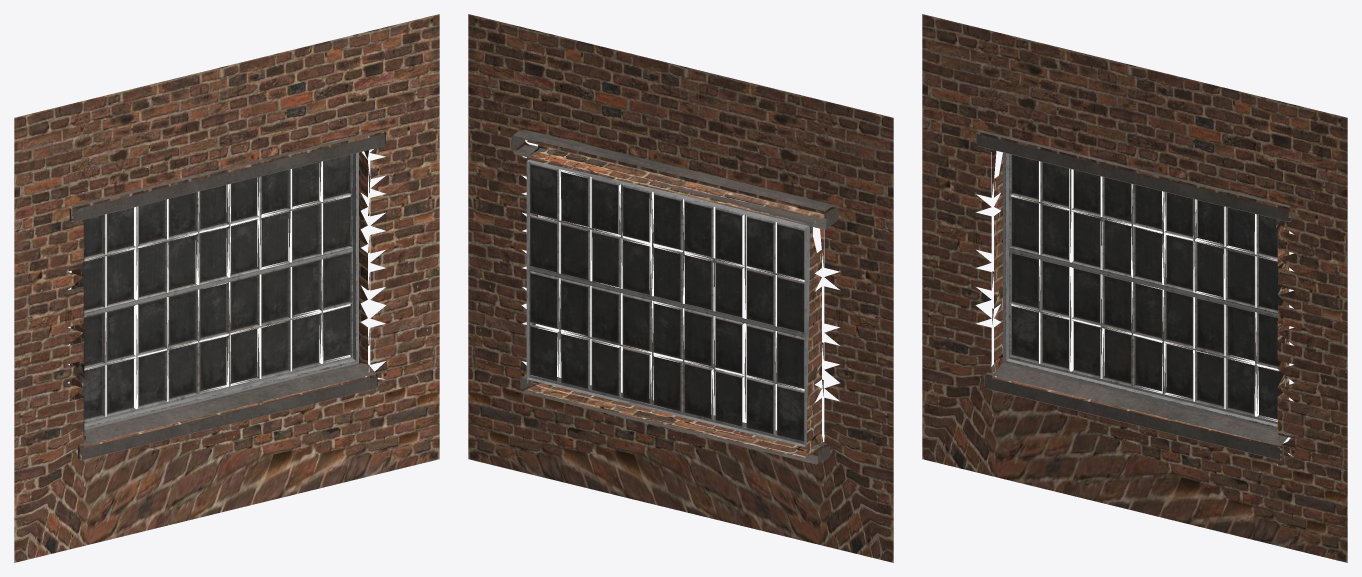
Rendered from FactoryWindow.glb.
3 views of the same model, side by side, from view 1: azimuth 30°, elevation 25°; view 2: azimuth 150°, elevation 25°; view 3: azimuth 330°, elevation 25° (orthographic).
Visible parts, largest first — view 1: wall_window_centered_large_01, window_centered_large_01; view 2: wall_window_centered_large_01, window_centered_large_01; view 3: wall_window_centered_large_01, window_centered_large_01.
Boxes of the visible parts, x1=… form: wall_window_centered_large_01: x1=14, y1=14, x2=439, y2=562; window_centered_large_01: x1=69, y1=129, x2=385, y2=460; wall_window_centered_large_01: x1=468, y1=14, x2=893, y2=562; window_centered_large_01: x1=511, y1=129, x2=838, y2=464; wall_window_centered_large_01: x1=922, y1=14, x2=1347, y2=562; window_centered_large_01: x1=976, y1=129, x2=1293, y2=460.
Bounding box in the file's own units: 3 × 3 × 0.23.
Materials: 3 (3 with a texture image).
